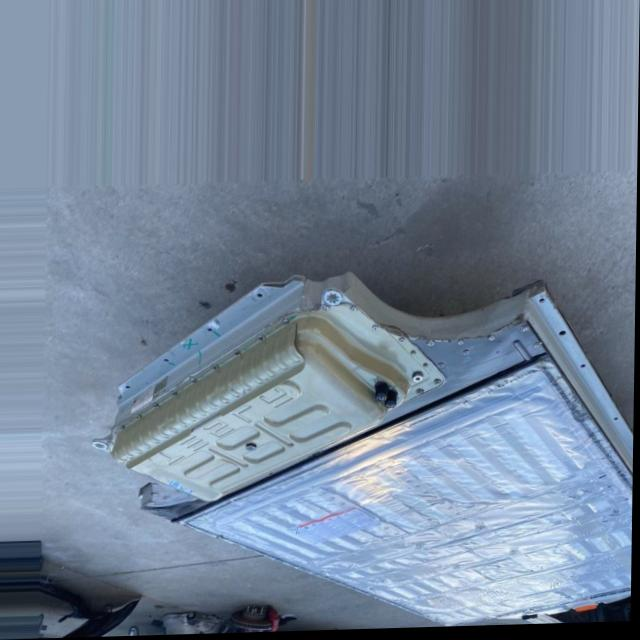Screw: (415, 546, 427, 566), (230, 351, 245, 365), (256, 332, 268, 348), (212, 363, 226, 376), (478, 528, 489, 544), (426, 341, 439, 353), (438, 361, 449, 375), (461, 353, 478, 362), (409, 348, 419, 362), (350, 304, 358, 321), (192, 376, 202, 388), (489, 335, 499, 347), (153, 400, 162, 413), (372, 325, 381, 338), (457, 338, 466, 351), (171, 388, 181, 398), (324, 303, 331, 317), (137, 410, 145, 422), (399, 335, 406, 348), (120, 427, 129, 437), (283, 318, 291, 328)
